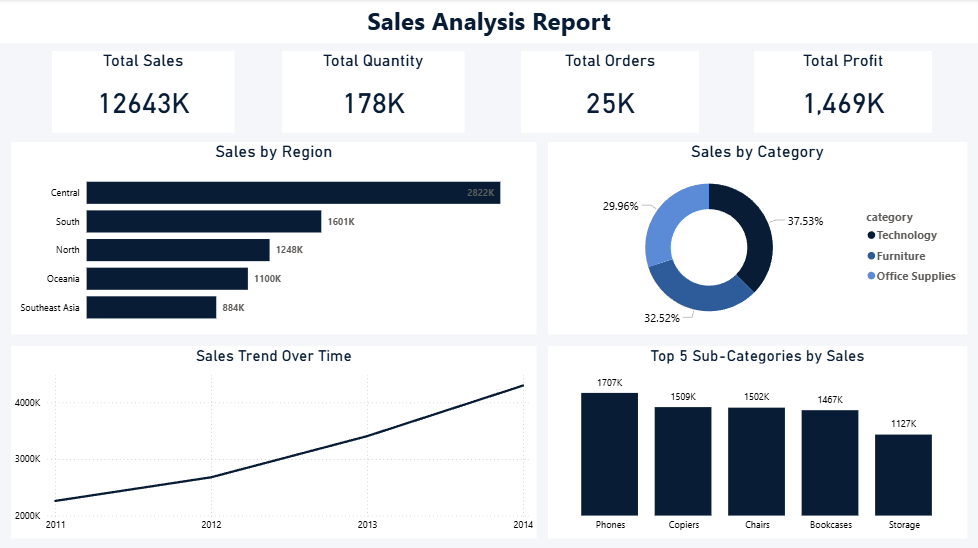

This screenshot's page, from the dashboard's own definition file:
{"tool":"powerbi","page":{"name":"Page 1","canvas":[1280,720],"ordinal":0},"visuals":[{"type":"textbox","box":[0,0,1280.2,57.6],"z":0},{"type":"card","title":"Total Profit","fields":{"Values":["Sum(SuperStoreOrders.profit)"]},"box":[986.4,67.7,233.3,106.6],"z":2},{"type":"card","title":"Total Sales","fields":{"Values":["Sum(SuperStoreOrders.sales)"]},"box":[67.7,67.7,239,106.6],"z":3},{"type":"card","title":"Total Quantity","fields":{"Values":["Sum(SuperStoreOrders.quantity)"]},"box":[368.6,67.7,239,106.6],"z":4},{"type":"card","title":"Total Orders","fields":{"Values":["SuperStoreOrders.Total Orders"]},"box":[682.6,67.7,233.3,106.6],"z":5},{"type":"lineChart","title":"Sales Trend Over Time","fields":{"Category":["SuperStoreOrders.order_date.Variation.Date Hierarchy.Year","SuperStoreOrders.order_date.Variation.Date Hierarchy.Quarter","SuperStoreOrders.order_date.Variation.Date Hierarchy.Month","SuperStoreOrders.order_date.Variation.Date Hierarchy.Day"],"Y":["Sum(SuperStoreOrders.sales)"]},"box":[14.4,453.6,688.3,252],"z":6},{"type":"clusteredBarChart","title":"Sales by Region","fields":{"Category":["SuperStoreOrders.region"],"Y":["Sum(SuperStoreOrders.sales)"]},"box":[14.4,187.2,688.3,252],"z":7},{"type":"donutChart","title":"Sales by Category","fields":{"Category":["SuperStoreOrders.category"],"Y":["Sum(SuperStoreOrders.sales)"]},"box":[717.1,187.2,548.6,252],"z":8},{"type":"clusteredColumnChart","title":"Top 5 Sub-Categories by Sales","fields":{"Category":["SuperStoreOrders.sub_category"],"Y":["Sum(SuperStoreOrders.sales)"]},"box":[717.1,453.6,548.6,252],"z":9}]}

Visuals, with their boxes in screenshot pixels (x1, y1, x2, y2), scaled from the page's 1280x720 canvas onto the 978x548 screenshot:
textbox: bbox(0, 0, 977, 44)
"Total Profit" card: bbox(754, 52, 932, 133)
"Total Sales" card: bbox(52, 52, 234, 133)
"Total Quantity" card: bbox(282, 52, 464, 133)
"Total Orders" card: bbox(522, 52, 700, 133)
"Sales Trend Over Time" lineChart: bbox(11, 345, 537, 537)
"Sales by Region" clusteredBarChart: bbox(11, 142, 537, 334)
"Sales by Category" donutChart: bbox(548, 142, 967, 334)
"Top 5 Sub-Categories by Sales" clusteredColumnChart: bbox(548, 345, 967, 537)
